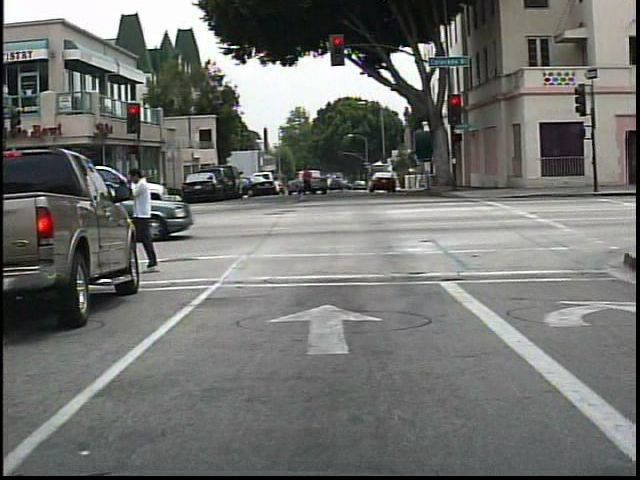person: (120, 166, 169, 276), (293, 161, 317, 201)
